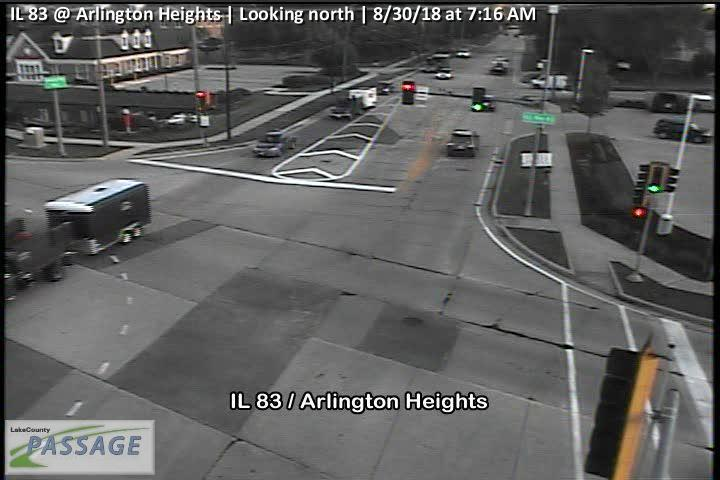SUV: (652, 118, 714, 146), (448, 130, 481, 158), (489, 55, 510, 71)
Sedan: (252, 130, 292, 157), (436, 68, 453, 79)
Truck: (1, 176, 152, 306)
